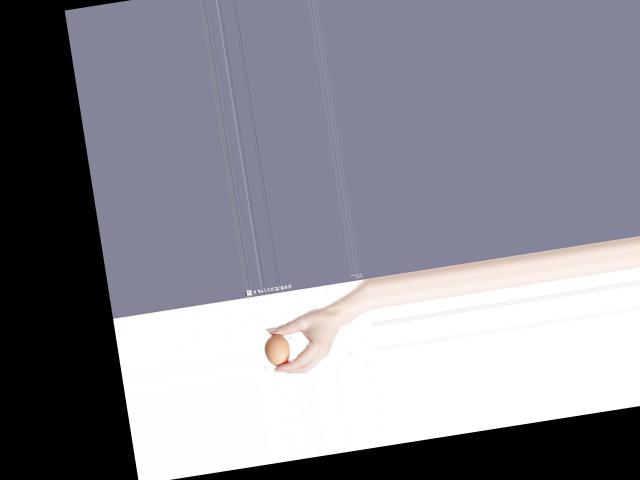egg: (263, 332, 293, 367)
